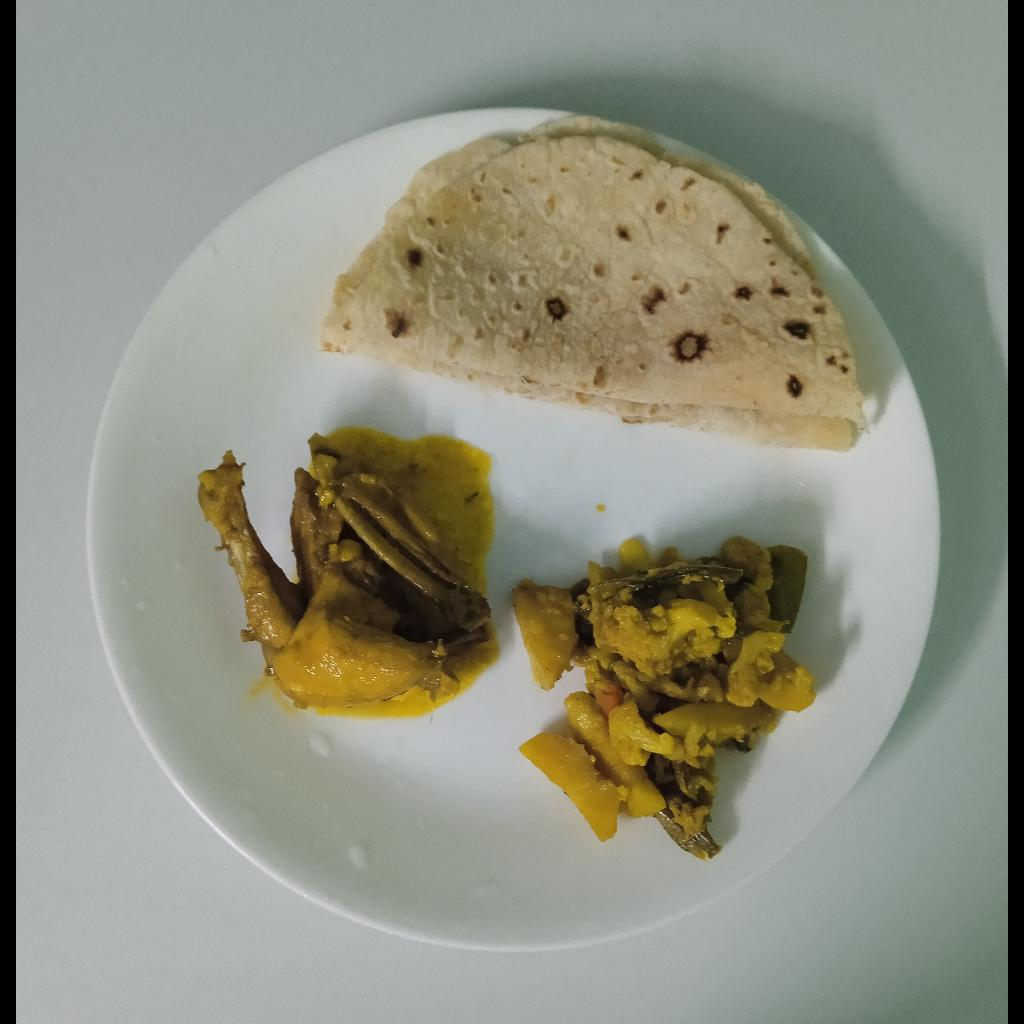chicken: (196, 433, 490, 708)
ruti: (317, 115, 869, 454)
vegetable: (510, 533, 819, 859)
